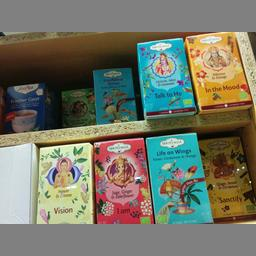tea: (144, 132, 213, 222), (182, 32, 252, 111), (94, 136, 154, 223), (134, 36, 196, 116), (198, 132, 252, 220), (36, 142, 94, 222), (92, 65, 138, 121), (4, 81, 50, 127), (60, 86, 94, 124)
